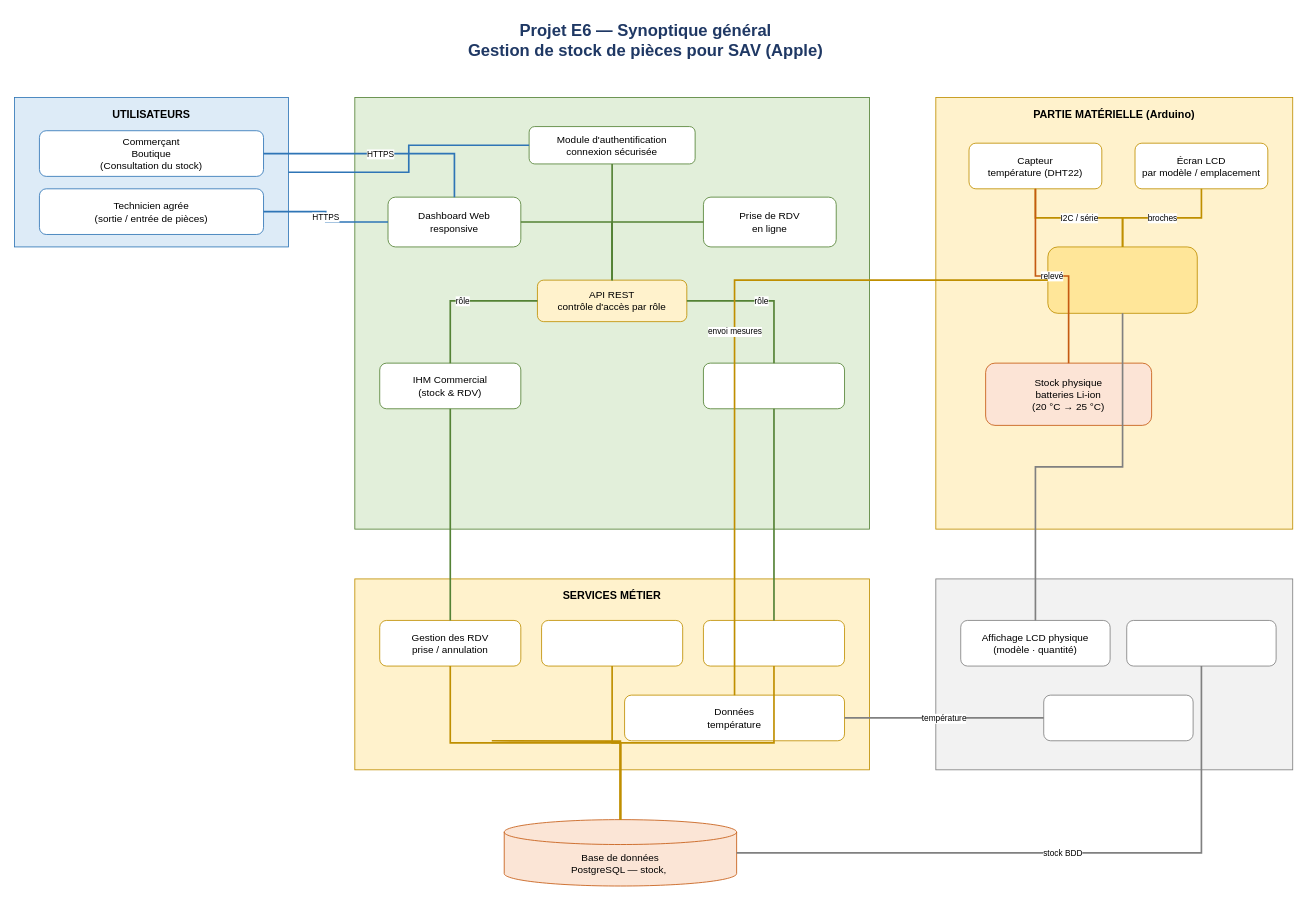
This 1307x901 diagram has some shape labels left out. The box of each missing label's shape, as (x1, y1, x2, y2) in pixels:
AFFICHAGE / SORTIE: (935, 578, 1293, 770)
Affichage Web du stock des batteries: (1126, 620, 1276, 666)
Gestion du stock pièces par modèle: (541, 620, 683, 666)
IHM Technicien (entrées / sorties): (703, 362, 845, 409)
Microcontrôleur ARDUINO (acquisition + affichage): (1047, 246, 1197, 313)
Mouvements entrée / sortie (3 clics): (703, 620, 845, 666)
Notifications seuil 20°C / 25 °C: (1043, 694, 1193, 741)
PLATEFORME APPLICATIVE: (354, 97, 869, 529)
